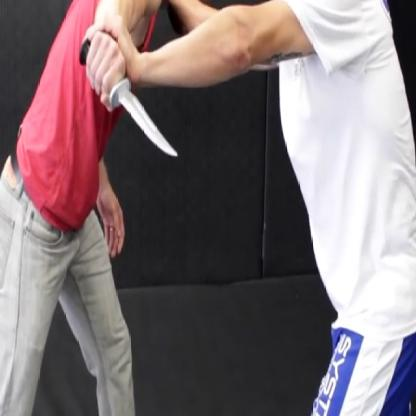knife: (73, 30, 182, 171)
